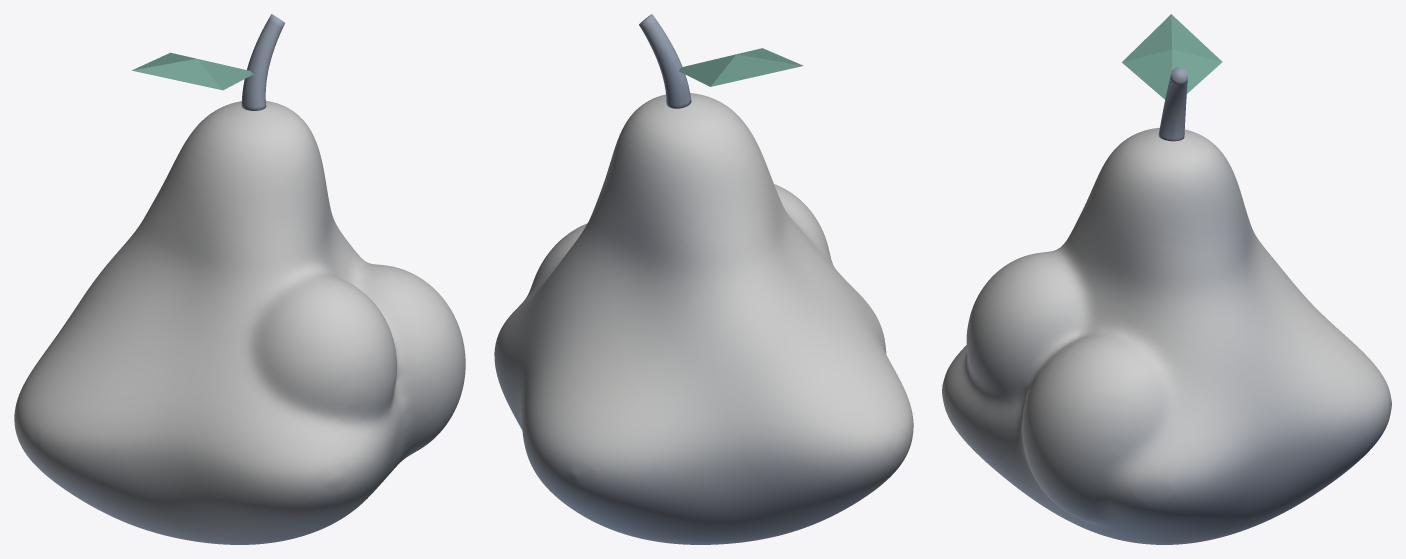
The model's file is Cloud_Pear.glb.
3 renders of one model, left to right at view 1: azimuth 30°, elevation 25°; view 2: azimuth 150°, elevation 25°; view 3: azimuth 270°, elevation 25°, orthographic. The views are drawn at different scales.
Visible parts, largest first — view 1: Cloud_Pear; view 2: Cloud_Pear; view 3: Cloud_Pear.
Part boxes in pixels (left/top/right/bottom): Cloud_Pear: left=14, top=14, right=465, bottom=544; Cloud_Pear: left=494, top=14, right=913, bottom=544; Cloud_Pear: left=942, top=14, right=1391, bottom=544.
Size of the model in its own units: 1 by 1.16 by 1.
